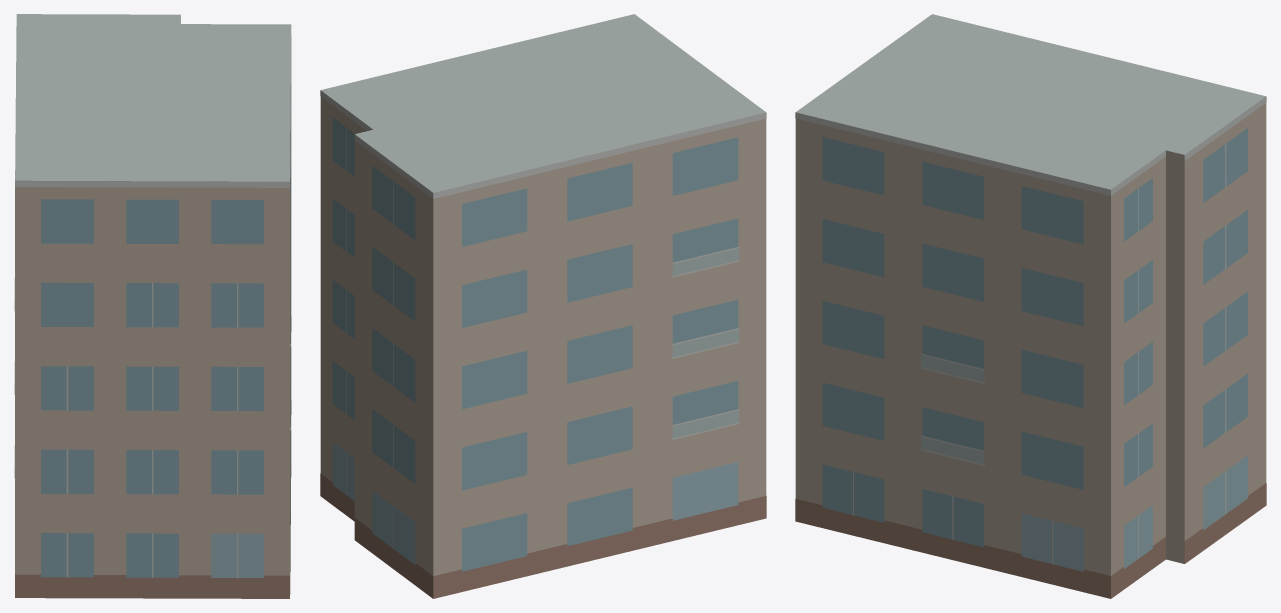
The model's file is survey-upis-32770370.glb.
The picture shows the model from 3 angles, left to right: view 1: azimuth 30°, elevation 25°; view 2: azimuth 150°, elevation 25°; view 3: azimuth 270°, elevation 25°; orthographic projection. The views are drawn at different scales.
Parts seen in each view (by area): view 1: survey-upis-32770370.tmp; view 2: survey-upis-32770370.tmp; view 3: survey-upis-32770370.tmp.
Boxes of the visible parts, x1,y1,x2,y2 form: survey-upis-32770370.tmp: (14, 14, 291, 598); survey-upis-32770370.tmp: (320, 14, 766, 598); survey-upis-32770370.tmp: (795, 14, 1266, 598).
Size of the model in its own units: 15 by 16.27 by 16.99.
